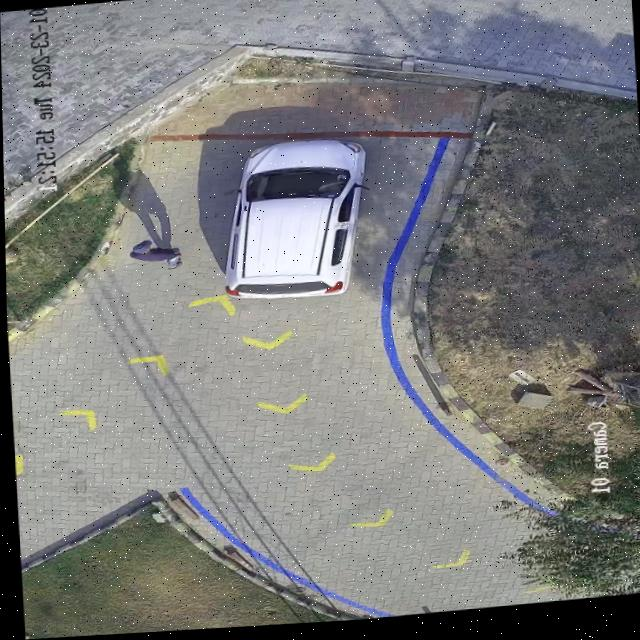car: (225, 142, 364, 301)
